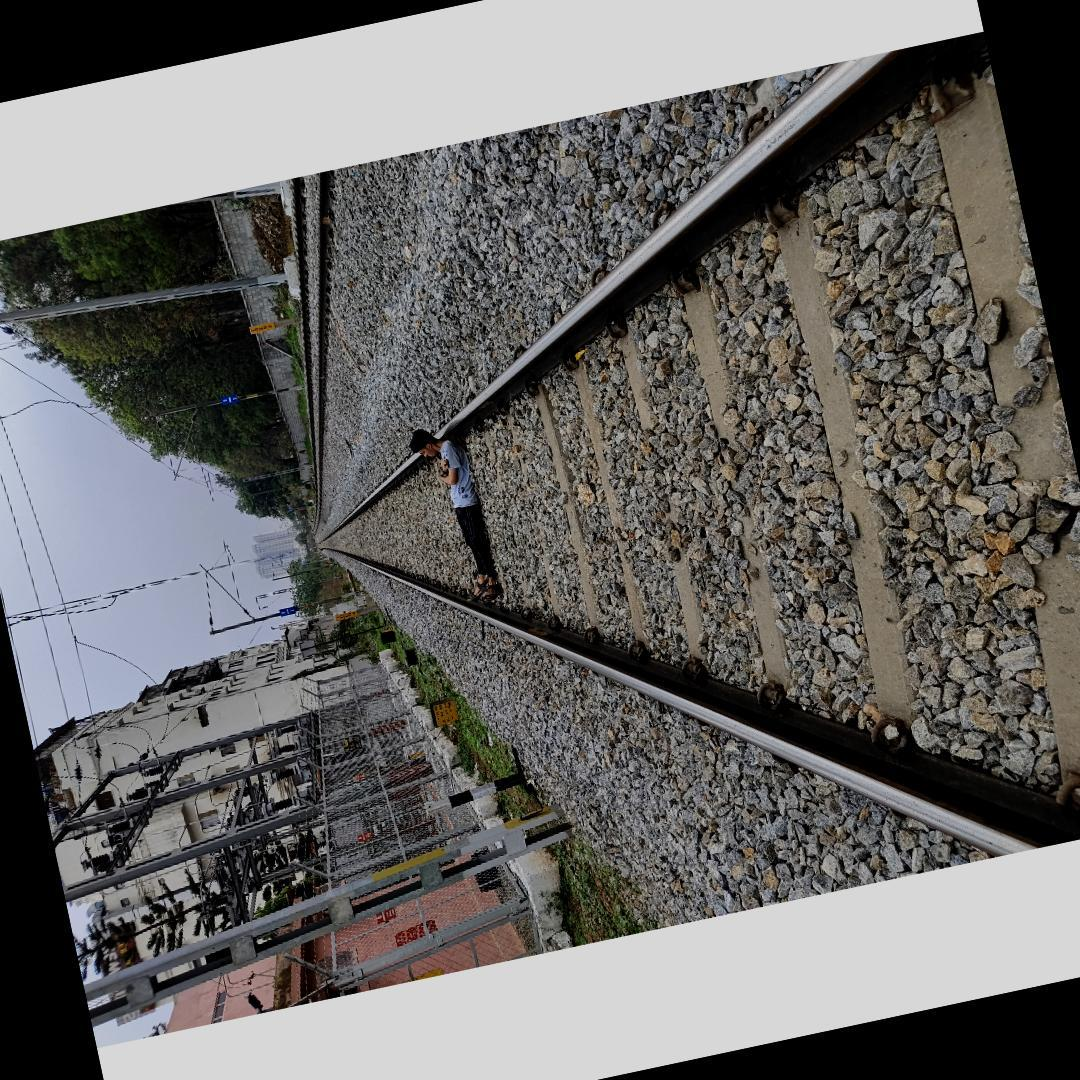sleeping: (404, 421, 502, 616)
track: (312, 32, 1080, 866)
